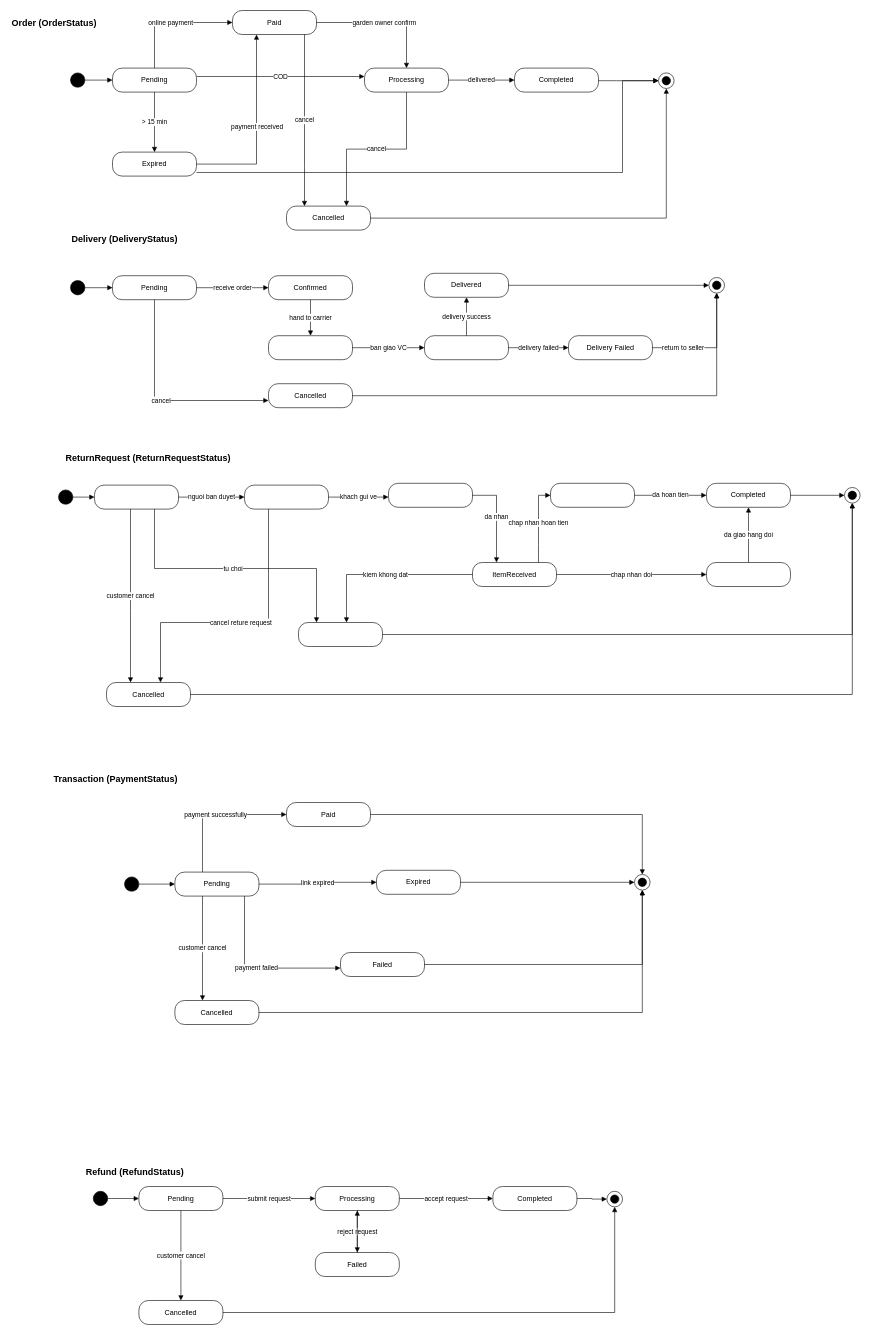
This 871x1335 diagram has some shape labels left out. Each missing label, with the centre of its shape:
"Approved" goes at point 286,496.
"Exchanging" goes at point 748,574.
"Preparing" goes at point 310,347.
"Refunding" goes at point 592,495.
"Rejected" goes at point 340,634.
"Requested" goes at point 136,496.
"ReturnInTransit" goes at point 430,495.
"Shipped" goes at point 466,347.
